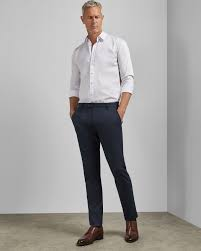F_dress pants: (72, 101, 142, 222)
F_shirt: (67, 34, 136, 107)
